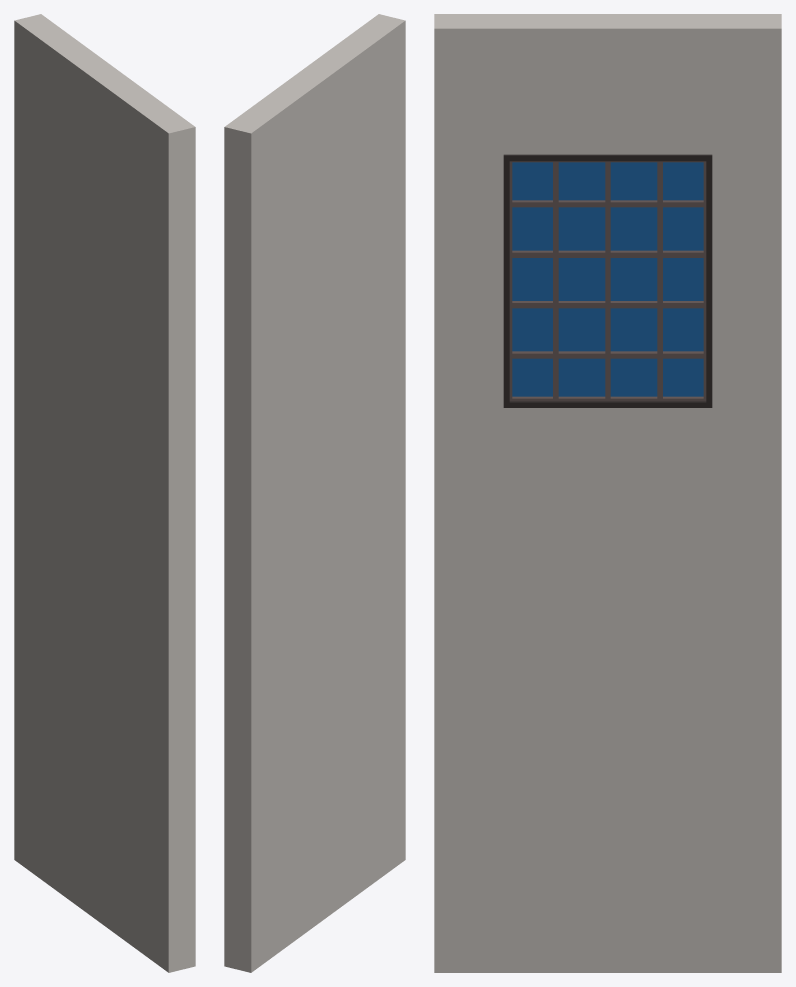
The model's file is Mur.fbx.
3 renders of one model, left to right at view 1: azimuth 30°, elevation 25°; view 2: azimuth 150°, elevation 25°; view 3: azimuth 270°, elevation 25°, orthographic. The views are drawn at different scales.
Visible parts, largest first — view 1: Mur; view 2: Mur; view 3: Mur.
Boxes of the visible parts, bbox=[...] form: Mur: bbox=[14, 14, 195, 972]; Mur: bbox=[224, 14, 405, 972]; Mur: bbox=[434, 14, 781, 972].
Bounding box in the file's own units: 55.03 × 1500 × 500.
